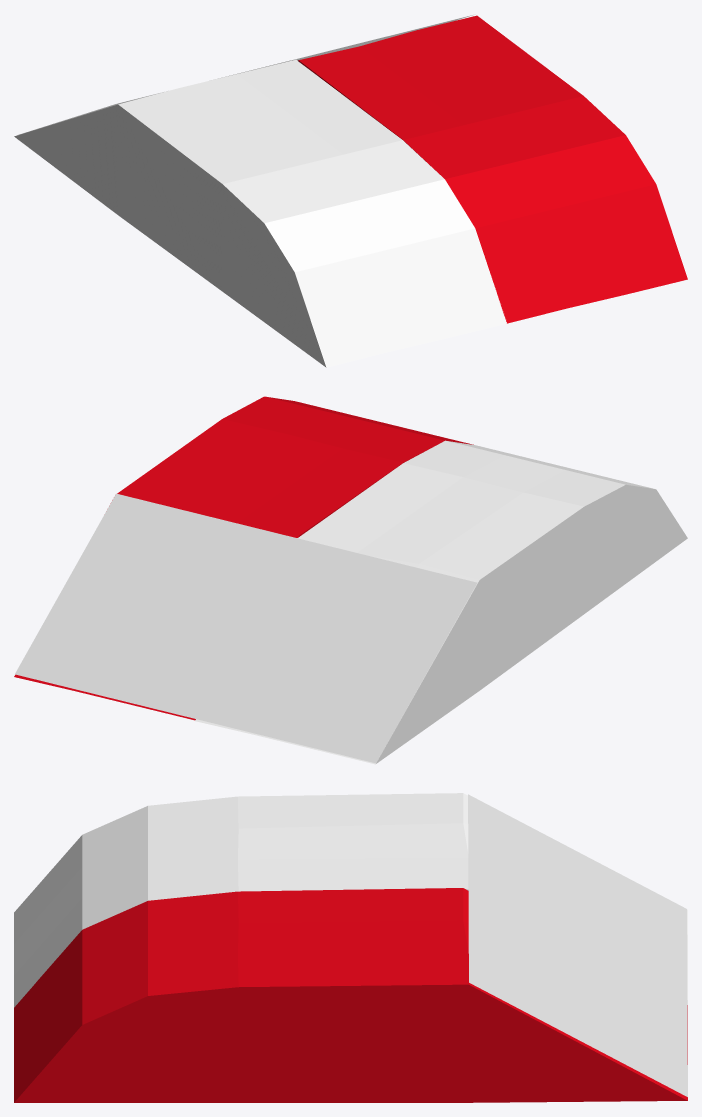
File: dd edge paths.fbx
3 views of the same model, one above another, from view 1: azimuth 30°, elevation 25°; view 2: azimuth 150°, elevation 25°; view 3: azimuth 270°, elevation 25° (orthographic). The views are drawn at different scales.
Visible parts, largest first — view 1: Cube.001, Cube, Plane; view 2: Plane, Cube.001, Cube; view 3: Cube, Cube.001, Plane.
Boxes of the visible parts, x1,y1,x2,y2 form: Cube.001: [14, 59, 506, 367]; Cube: [297, 15, 687, 323]; Plane: [17, 15, 472, 135]; Plane: [15, 493, 477, 763]; Cube.001: [195, 440, 687, 764]; Cube: [14, 396, 473, 720]; Cube: [14, 888, 687, 1102]; Cube.001: [14, 793, 687, 1007]; Plane: [468, 794, 687, 1096].
Size of the model in its own units: 134 by 39.68 by 200.
